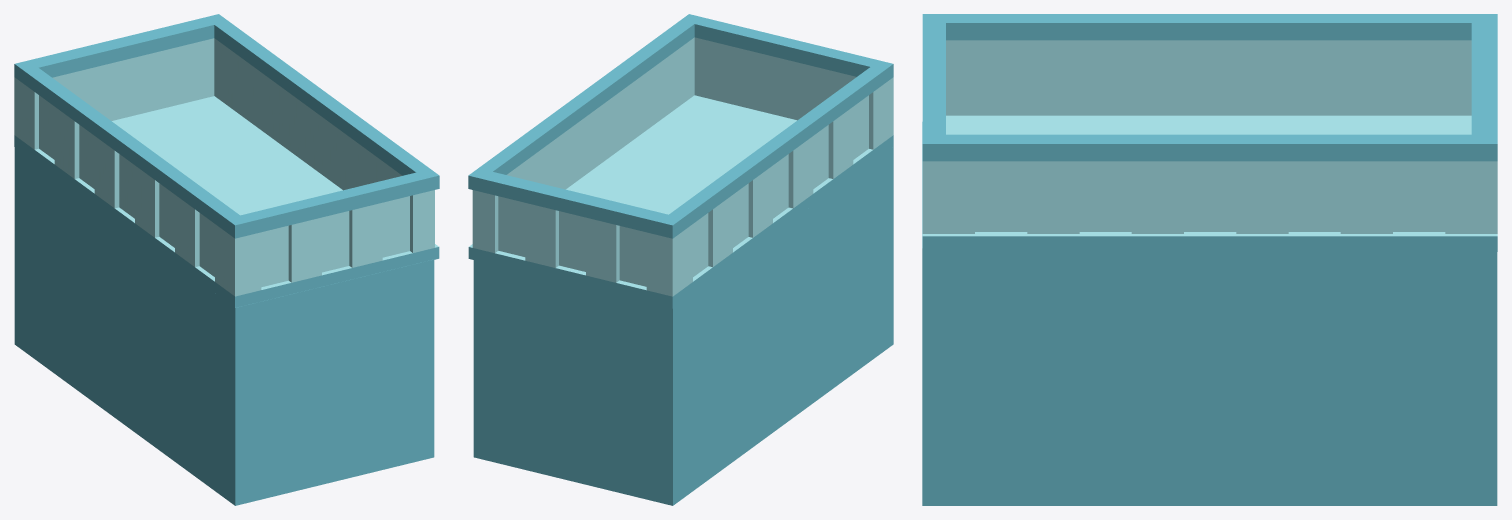
File: extrawalllarge.fbx
3 views of the same model, side by side, from view 1: azimuth 30°, elevation 25°; view 2: azimuth 150°, elevation 25°; view 3: azimuth 270°, elevation 25° (orthographic). The views are drawn at different scales.
Parts seen in each view (by area): view 1: extrawalllarge, Roof.011; view 2: extrawalllarge, Roof.011; view 3: extrawalllarge, Roof.011.
Boxes of the visible parts, bbox=[...] form: extrawalllarge: bbox=[14, 147, 434, 505]; Roof.011: bbox=[14, 14, 439, 307]; extrawalllarge: bbox=[473, 146, 893, 505]; Roof.011: bbox=[468, 14, 893, 308]; extrawalllarge: bbox=[922, 122, 1497, 505]; Roof.011: bbox=[922, 14, 1497, 251].
Size of the model in its own units: 6.48 by 8.5 by 12.13.
